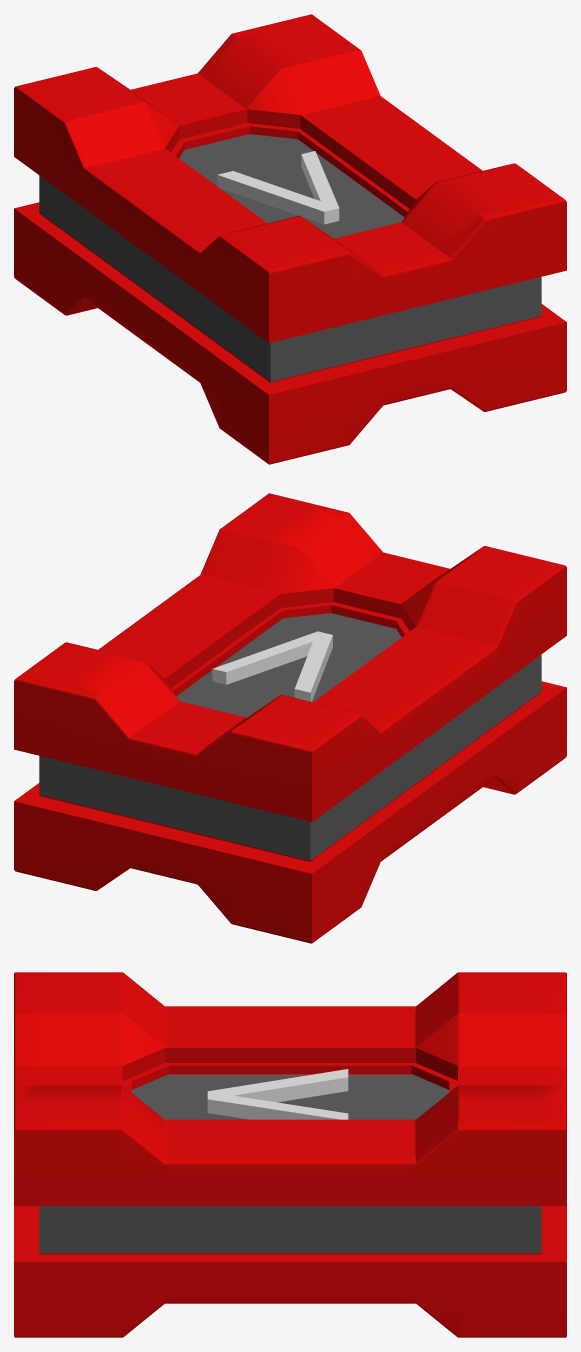
The model's file is Box_Speed_LowPoly_FBX.fbx.
3 views of the same model, one above another, from view 1: azimuth 30°, elevation 25°; view 2: azimuth 150°, elevation 25°; view 3: azimuth 270°, elevation 25° (orthographic). The views are drawn at different scales.
Visible parts, largest first — view 1: pasted__pCube5, typeMesh1; view 2: pasted__pCube5, typeMesh1; view 3: pasted__pCube5, typeMesh1.
Boxes of the visible parts, x1,y1,x2,y2 form: pasted__pCube5: [14, 14, 566, 464]; typeMesh1: [217, 151, 339, 224]; pasted__pCube5: [14, 493, 566, 943]; typeMesh1: [212, 631, 332, 701]; pasted__pCube5: [14, 972, 566, 1337]; typeMesh1: [207, 1069, 348, 1119].
Bounding box in the file's own units: 4.03 × 2.5 × 5.96.
